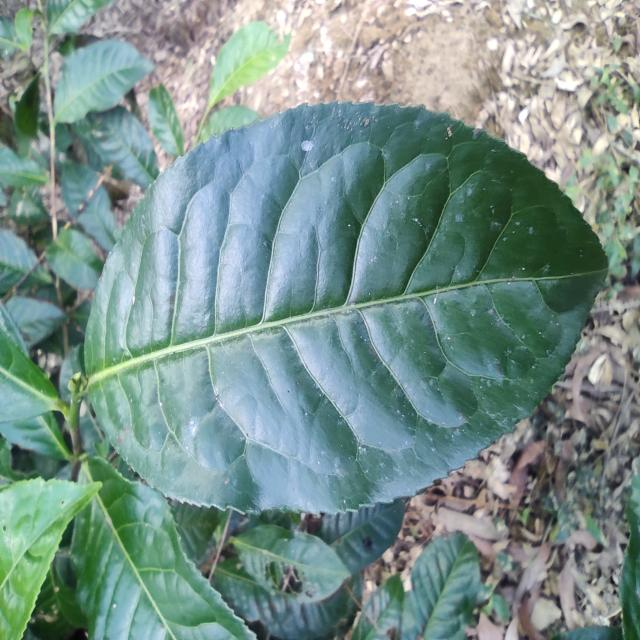Category D(7+ days, Not for Tea): (69, 91, 612, 530)
